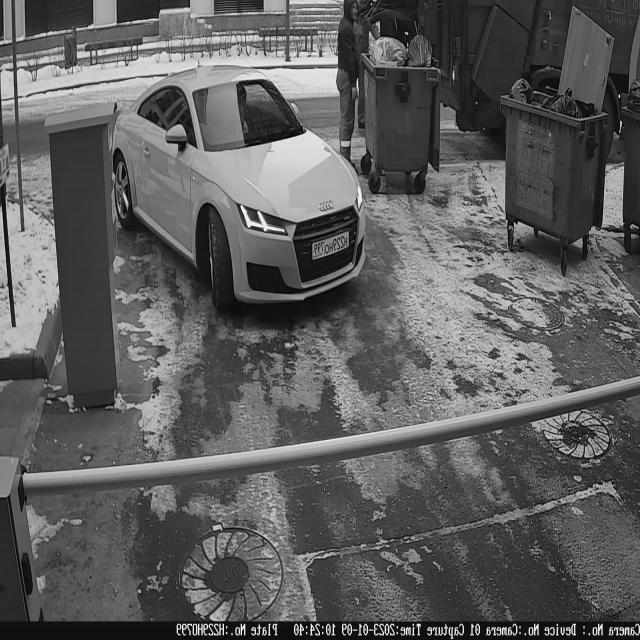car-plate-numbers: (311, 226, 355, 267)
